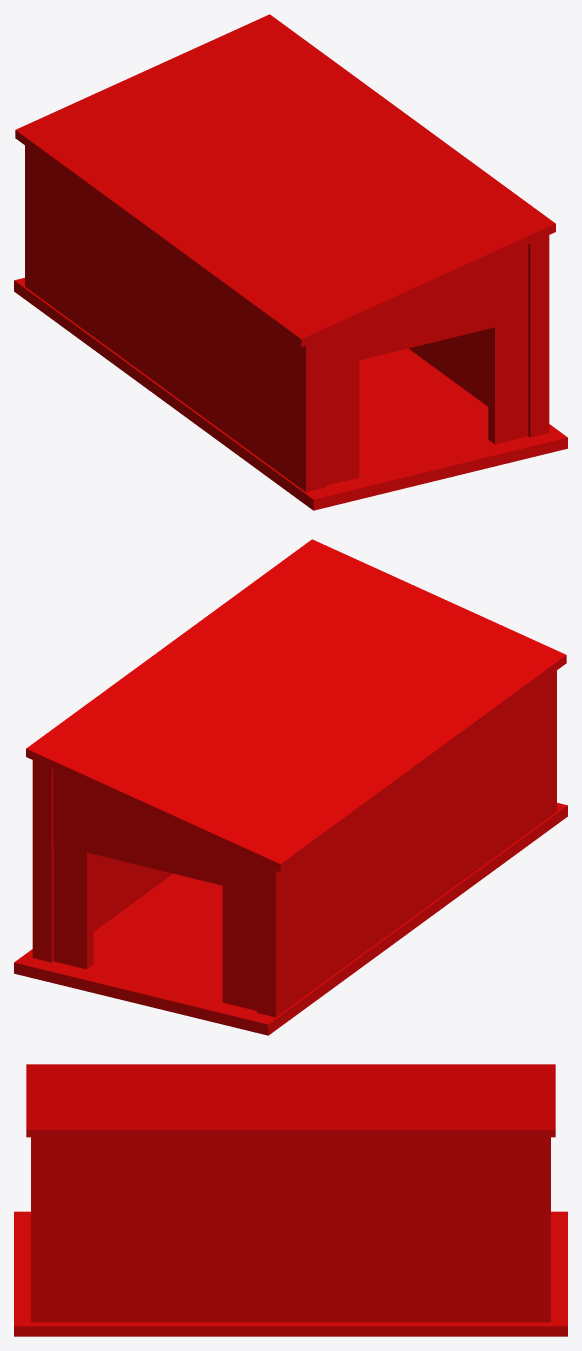
Rendered from SM_Bld_Warehouse_Concrete_01_Collision.fbx.
3 views of the same model, one above another, from view 1: azimuth 30°, elevation 25°; view 2: azimuth 150°, elevation 25°; view 3: azimuth 270°, elevation 25° (orthographic). The views are drawn at different scales.
Parts seen in each view (by area): view 1: SM_Bld_Warehouse_Concrete_01_Collision; view 2: SM_Bld_Warehouse_Concrete_01_Collision; view 3: SM_Bld_Warehouse_Concrete_01_Collision.
Part boxes in pixels (<box>): SM_Bld_Warehouse_Concrete_01_Collision: <box>14,14,567,510</box>; SM_Bld_Warehouse_Concrete_01_Collision: <box>14,539,567,1035</box>; SM_Bld_Warehouse_Concrete_01_Collision: <box>14,1064,567,1336</box>.
Size of the model in its own units: 1132 by 922 by 2261.
